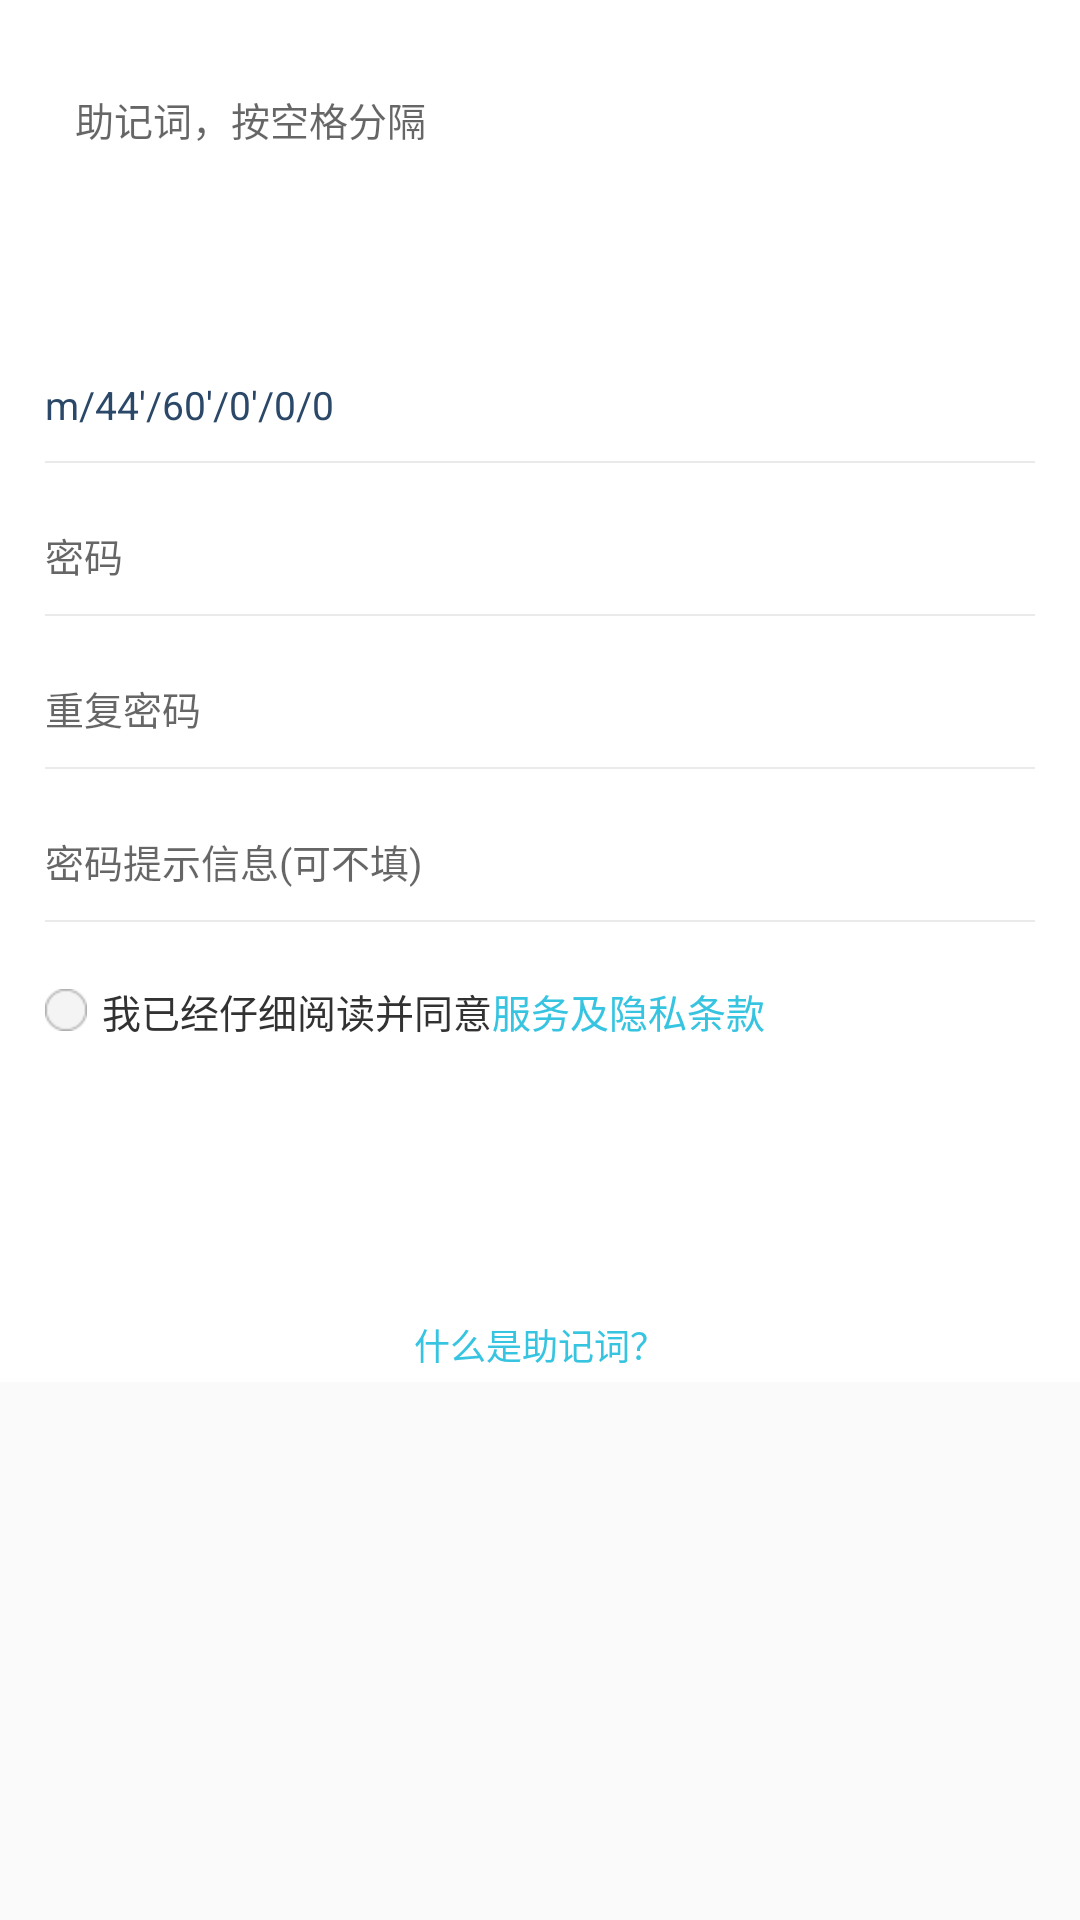

Icons on this 1080 x 1920 Android screen, each with the point to tap as (x=x, y=y):
agreement circle cb: (x=66, y=1010)
